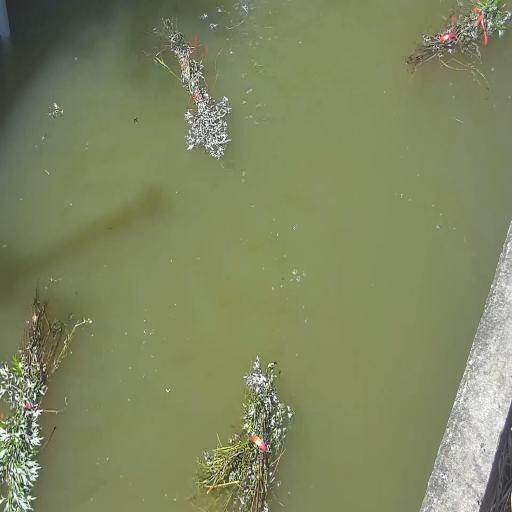twig: (0, 276, 92, 512), (192, 353, 294, 512), (146, 11, 229, 159), (404, 0, 511, 86)
